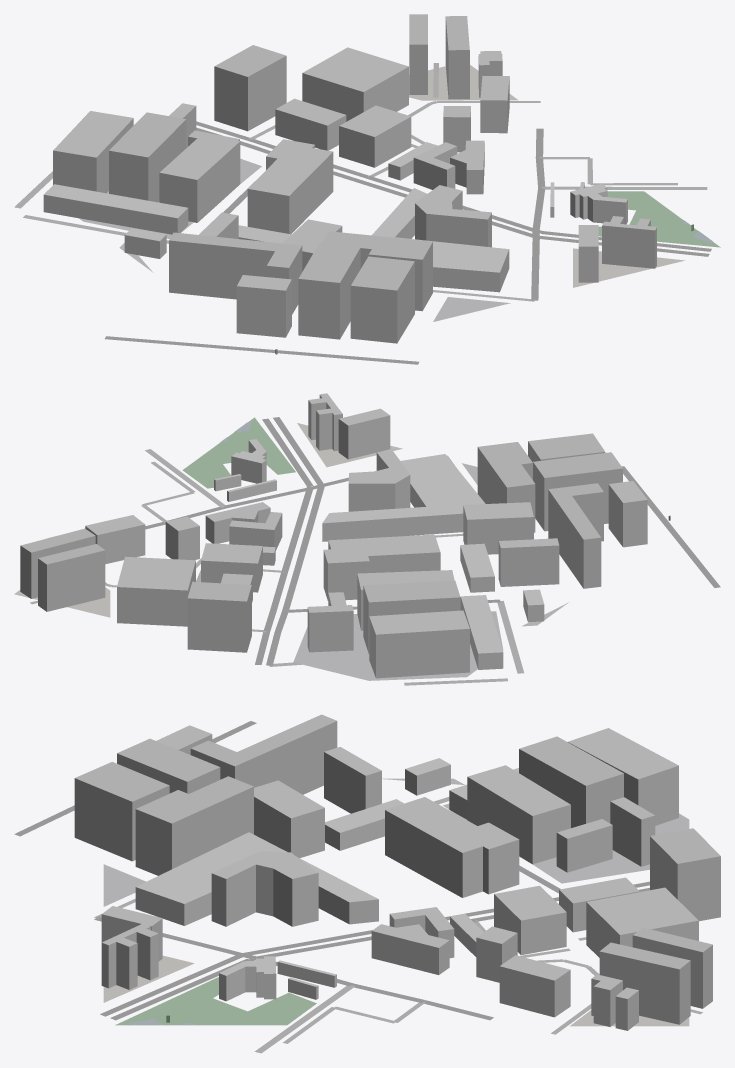
3 renders of one model, top to bottom at view 1: azimuth 30°, elevation 25°; view 2: azimuth 150°, elevation 25°; view 3: azimuth 270°, elevation 25°, orthographic. The views are drawn at different scales.
Bounding box in the file's own units: 673 × 60.88 × 604.
